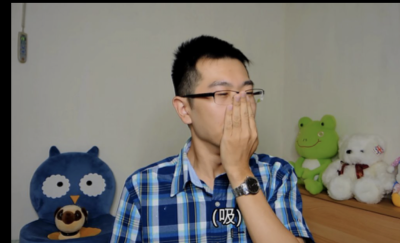with_mask: (192, 77, 258, 150)
